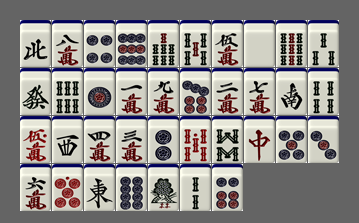0m: (20, 116, 51, 163)
0p: (52, 164, 83, 211)
0s: (180, 116, 211, 163)
1m: (116, 68, 147, 115)
1p: (84, 68, 115, 115)
1s: (148, 164, 179, 211)
1z: (84, 164, 115, 211)
2m: (212, 68, 243, 115)
2p: (148, 116, 179, 163)
2s: (180, 164, 211, 211)
2z: (276, 68, 307, 115)
3m: (116, 116, 147, 163)
3p: (308, 116, 339, 163)
3s: (308, 20, 339, 67)
3z: (52, 116, 83, 163)
4m: (84, 116, 115, 163)
4p: (84, 20, 115, 67)
4s: (308, 68, 339, 115)
4z: (20, 20, 51, 67)
5m: (212, 20, 243, 67)
5p: (276, 116, 307, 163)
5s: (180, 20, 211, 67)
5z: (244, 20, 275, 67)
6m: (20, 164, 51, 211)
6p: (212, 164, 243, 211)
6s: (52, 68, 83, 115)
6z: (20, 68, 51, 115)
7m: (244, 68, 275, 115)
7p: (180, 68, 211, 115)
7s: (148, 20, 179, 67)
7z: (244, 116, 275, 163)
8m: (52, 20, 83, 67)
8p: (116, 164, 147, 211)
8s: (212, 116, 243, 163)
9m: (148, 68, 179, 115)
9p: (116, 20, 147, 67)
9s: (276, 20, 307, 67)
